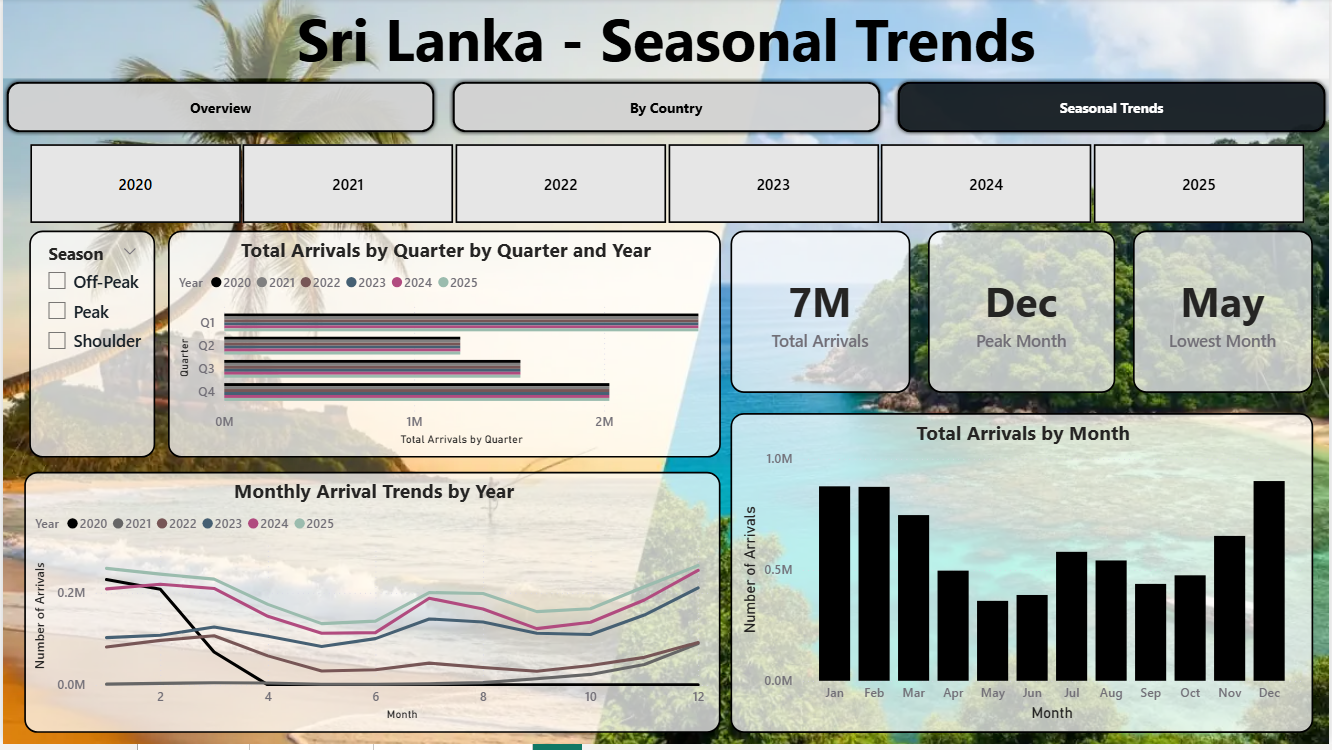

This screenshot's page, from the dashboard's own definition file:
{"tool":"powerbi","page":{"name":"Seasonal Trends","canvas":[1280,720],"ordinal":2},"visuals":[{"type":"slicer","fields":{"Values":["Dim_Date.Season"]},"box":[25.3,224.4,121.9,219.6],"z":0},{"type":"card","fields":{"Values":["_Measures.Lowest Month"]},"box":[1090.6,224.4,173.7,156.8],"z":1000},{"type":"lineChart","title":"Monthly Arrival Trends by Year","fields":{"Category":["Fact_Monthly_Summary.Month_Num"],"Y":["Sum(Fact_Monthly_Summary.Total_Arrivals)"],"Series":["Fact_Monthly_Summary.Year"]},"box":[20.5,457.2,672,252.1],"z":2000},{"type":"clusteredColumnChart","title":"Total Arrivals by Month","fields":{"Category":["Fact_Monthly_Summary.Month"],"Y":["Sum(Fact_Monthly_Summary.Total_Arrivals)"]},"box":[702.1,400.5,562.2,308.8],"z":3000},{"type":"clusteredBarChart","fields":{"Category":["Dim_Date.Quarter"],"Y":["_Measures.Total Arrivals by Quarter"],"Series":["Dim_Date.Year"]},"box":[159.3,224.4,533.2,219.6],"z":4000},{"type":"pageNavigator","box":[0,77.2,1280,56.7],"z":5000},{"type":"card","fields":{"Values":["_Measures.Total Arrivals"]},"box":[702.1,224.4,173.7,156.8],"z":6000},{"type":"card","fields":{"Values":["_Measures.Peak Month"]},"box":[892.8,224.4,181,156.8],"z":7000},{"type":"textbox","title":"Sri Lanka  - Seasonal Trends","box":[0,0,1280,77.2],"z":8000},{"type":"slicer","fields":{"Values":["Dim_Date.Year"]},"box":[0,133.9,1280,90.5],"z":9000}]}

Visuals, with their boxes in screenshot pixels (x1, y1, x2, y2), scaled from the page's 1280x720 canvas onto the 1332x750 screenshot:
slicer - Dim_Date.Season: region(26, 234, 153, 463)
card - _Measures.Lowest Month: region(1135, 234, 1316, 397)
"Monthly Arrival Trends by Year" lineChart: region(21, 476, 721, 739)
"Total Arrivals by Month" clusteredColumnChart: region(731, 417, 1316, 739)
clusteredBarChart - Dim_Date.Quarter x _Measures.Total Arrivals by Quarter: region(166, 234, 721, 463)
pageNavigator: region(0, 80, 1331, 139)
card - _Measures.Total Arrivals: region(731, 234, 911, 397)
card - _Measures.Peak Month: region(929, 234, 1117, 397)
"Sri Lanka  - Seasonal Trends" textbox: region(0, 0, 1331, 80)
slicer - Dim_Date.Year: region(0, 139, 1331, 234)
